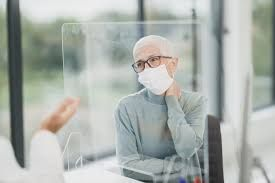with-mask: (131, 37, 179, 96)
